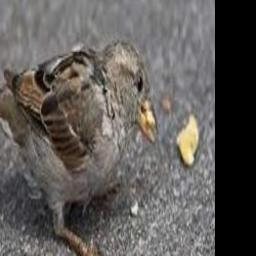Sparrow: (0, 39, 159, 256)
